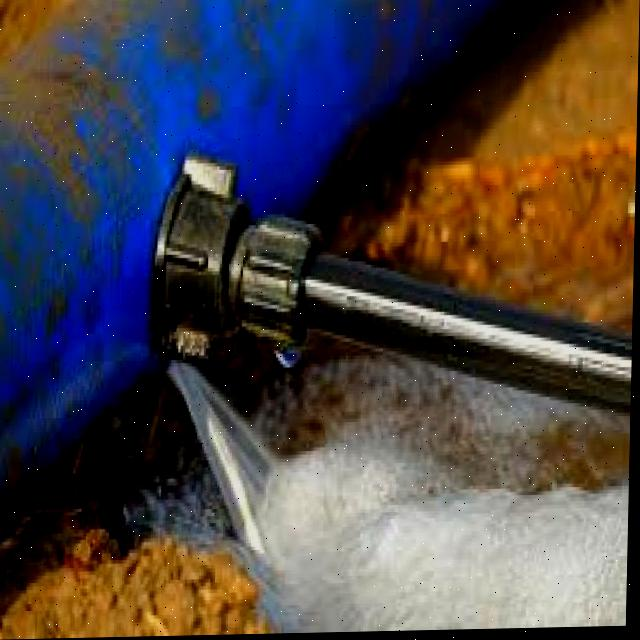corrosion: (105, 285, 287, 449)
